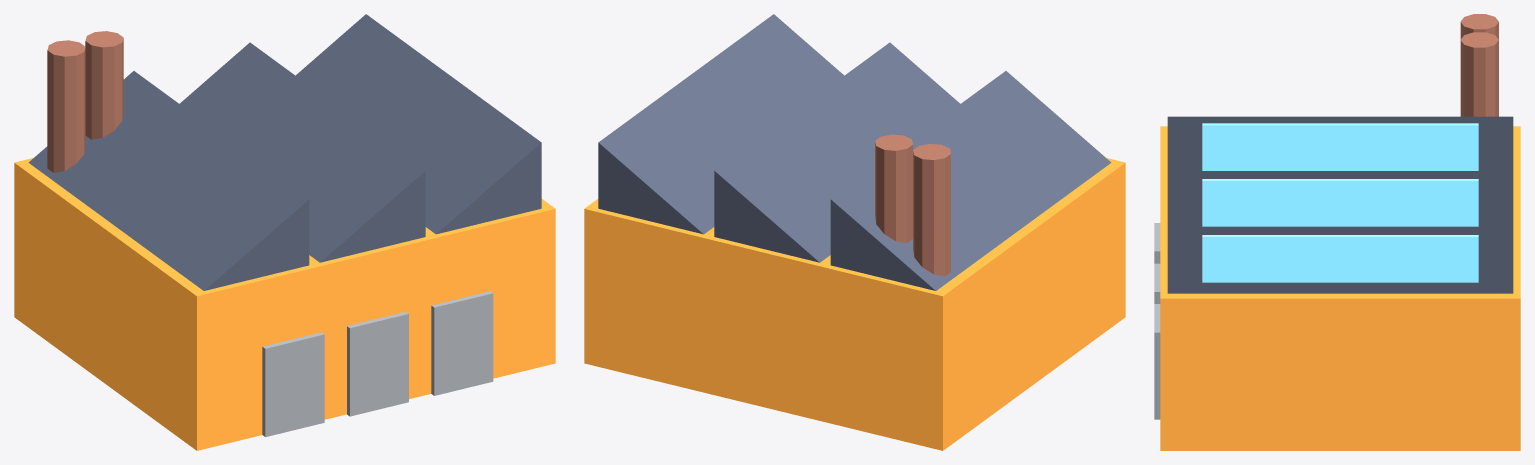
Rendered from factory_m.glb.
The picture shows the model from 3 angles, left to right: view 1: azimuth 30°, elevation 25°; view 2: azimuth 150°, elevation 25°; view 3: azimuth 270°, elevation 25°; orthographic projection.
Parts seen in each view (by area): view 1: factory_m; view 2: factory_m; view 3: factory_m.
Part boxes in pixels (box(x1,y1,x2,y2)): factory_m: box(14, 14, 555, 450); factory_m: box(584, 14, 1125, 450); factory_m: box(1154, 14, 1520, 450).
Size of the model in its own units: 1.7 by 1.25 by 1.52.
